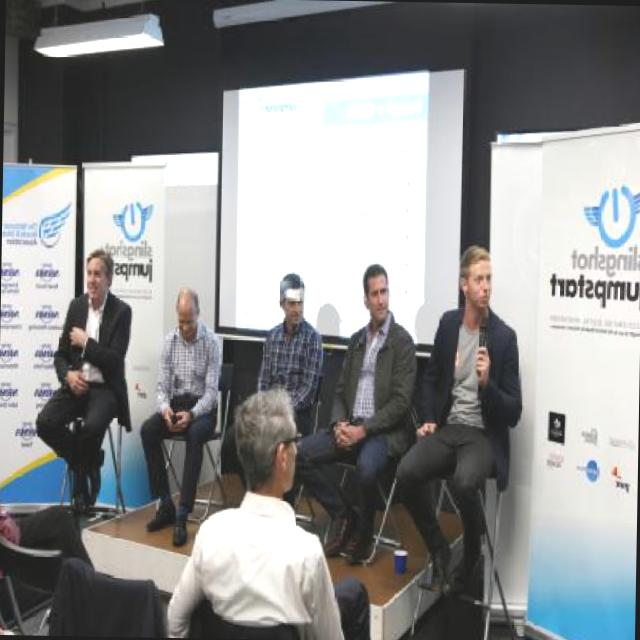Person: (0, 230, 523, 640)
